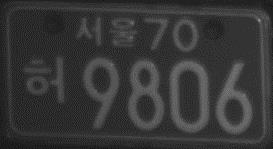0: (167, 60, 210, 134), (172, 18, 199, 53)
6: (213, 59, 255, 135)
7: (142, 15, 169, 53)
8: (125, 58, 167, 132)
9: (80, 56, 121, 132)
서울_O: (73, 14, 139, 50)
허: (23, 53, 65, 104)
